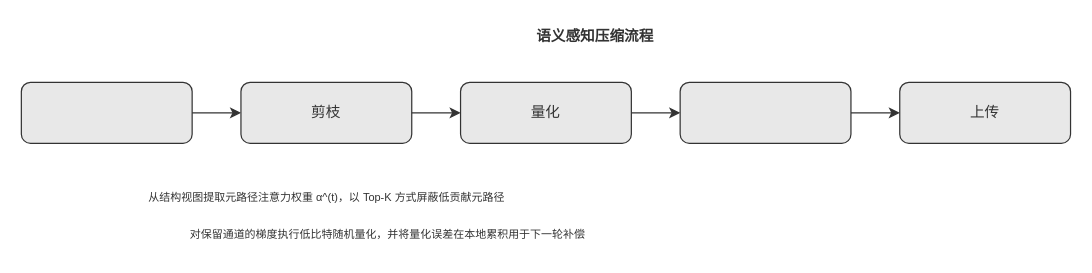
The diagram is 1092 pixels wide and 273 high, and some of its shapes have lost their labels. Each missing label, with the box of its shape:
补偿: (679, 81, 851, 143)
评估: (20, 81, 192, 143)
